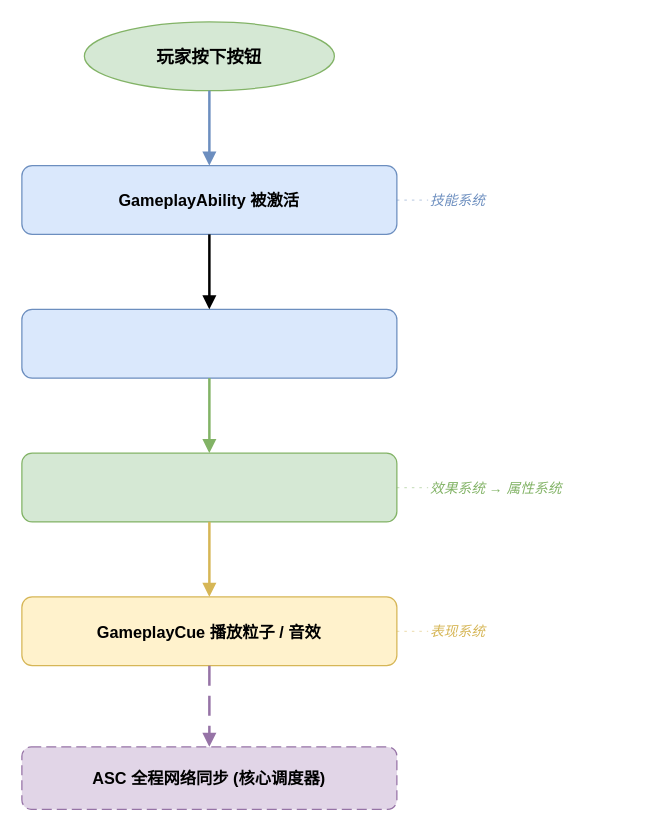
This 650x831 diagram has some shape labels left out. The shapes that lost their labels are listed below. From the top down, each one's centre as x and y in pixels, then its label:
At pixel 209 343: "创建 GameplayEffect Spec".
At pixel 209 487: "GameplayEffect 修改属性值".
